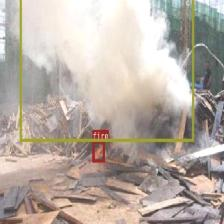fire: (92, 140, 104, 162)
smoke: (19, 0, 193, 141)
